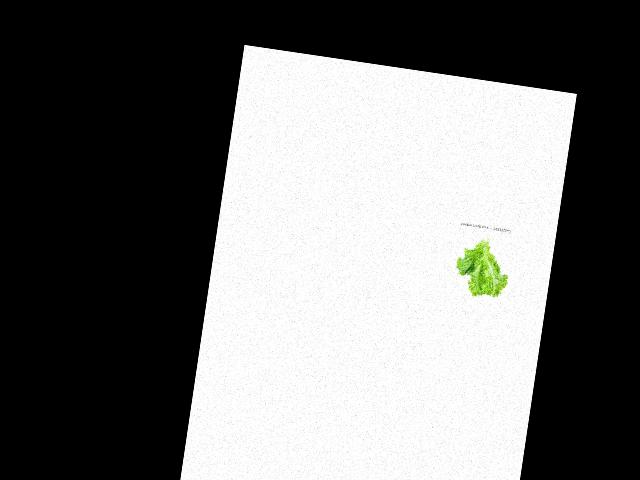lettuce: (450, 230, 513, 302)
